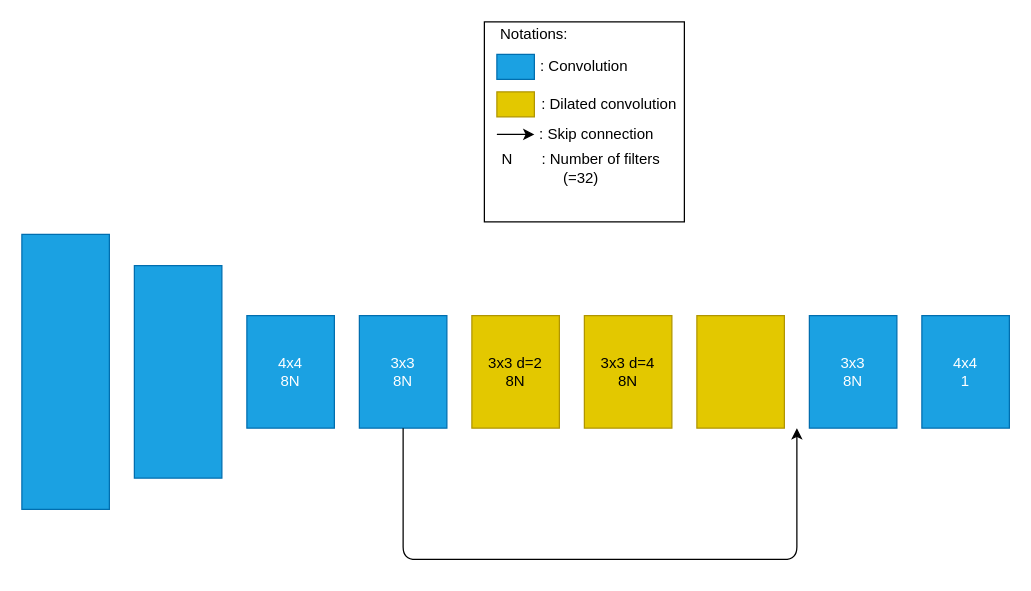
Some shapes in this 1031 by 591 pixel diagram are drawn without their labels. The centre of each missing label's shape, as x and y in pixels:
"3x3 d=8 8N" goes at [740,371].
"4x4 2N" goes at [65,371].
"4x4 4N" goes at [177,371].
